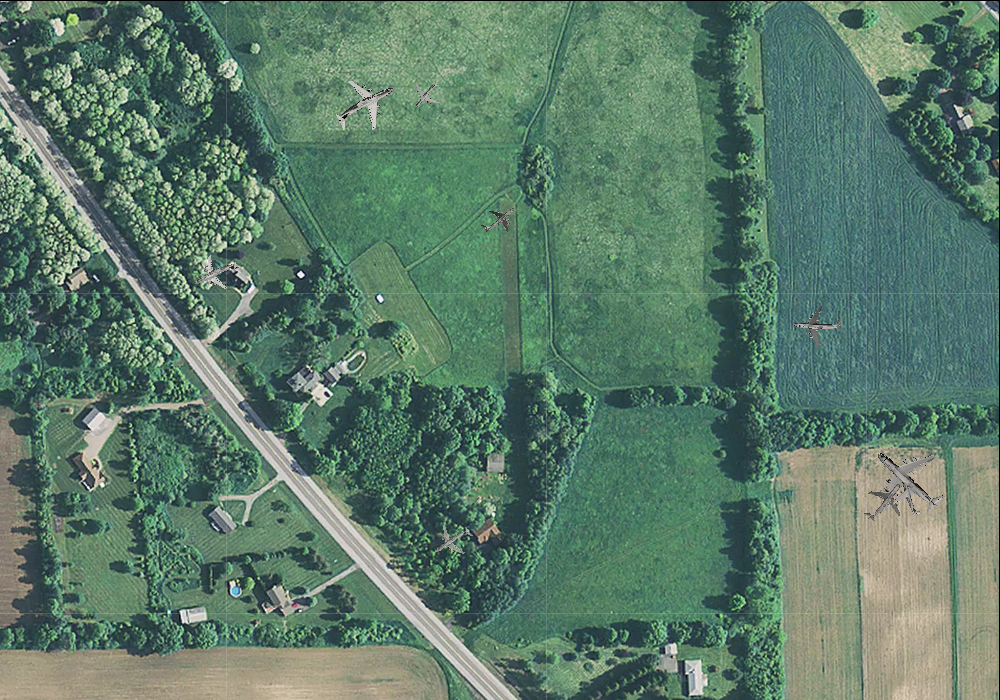plane: (853, 425, 963, 534), (322, 63, 408, 147), (853, 469, 916, 533), (185, 244, 247, 305), (425, 513, 480, 568), (792, 300, 843, 349), (474, 194, 523, 243), (886, 471, 934, 521), (404, 71, 449, 116)
